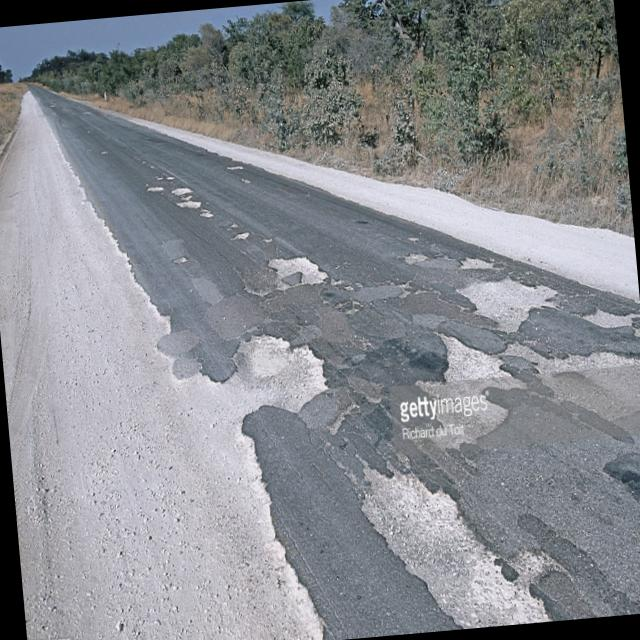Potholes: (336, 296, 588, 484), (204, 308, 356, 456), (434, 252, 576, 346), (243, 213, 336, 313)
